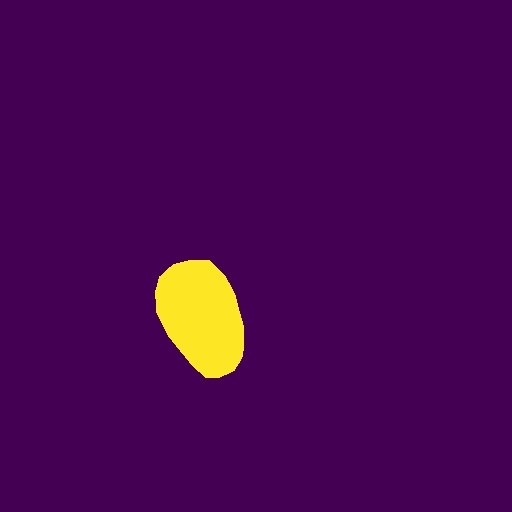Gliomia_tumour: (155, 260, 244, 378)
